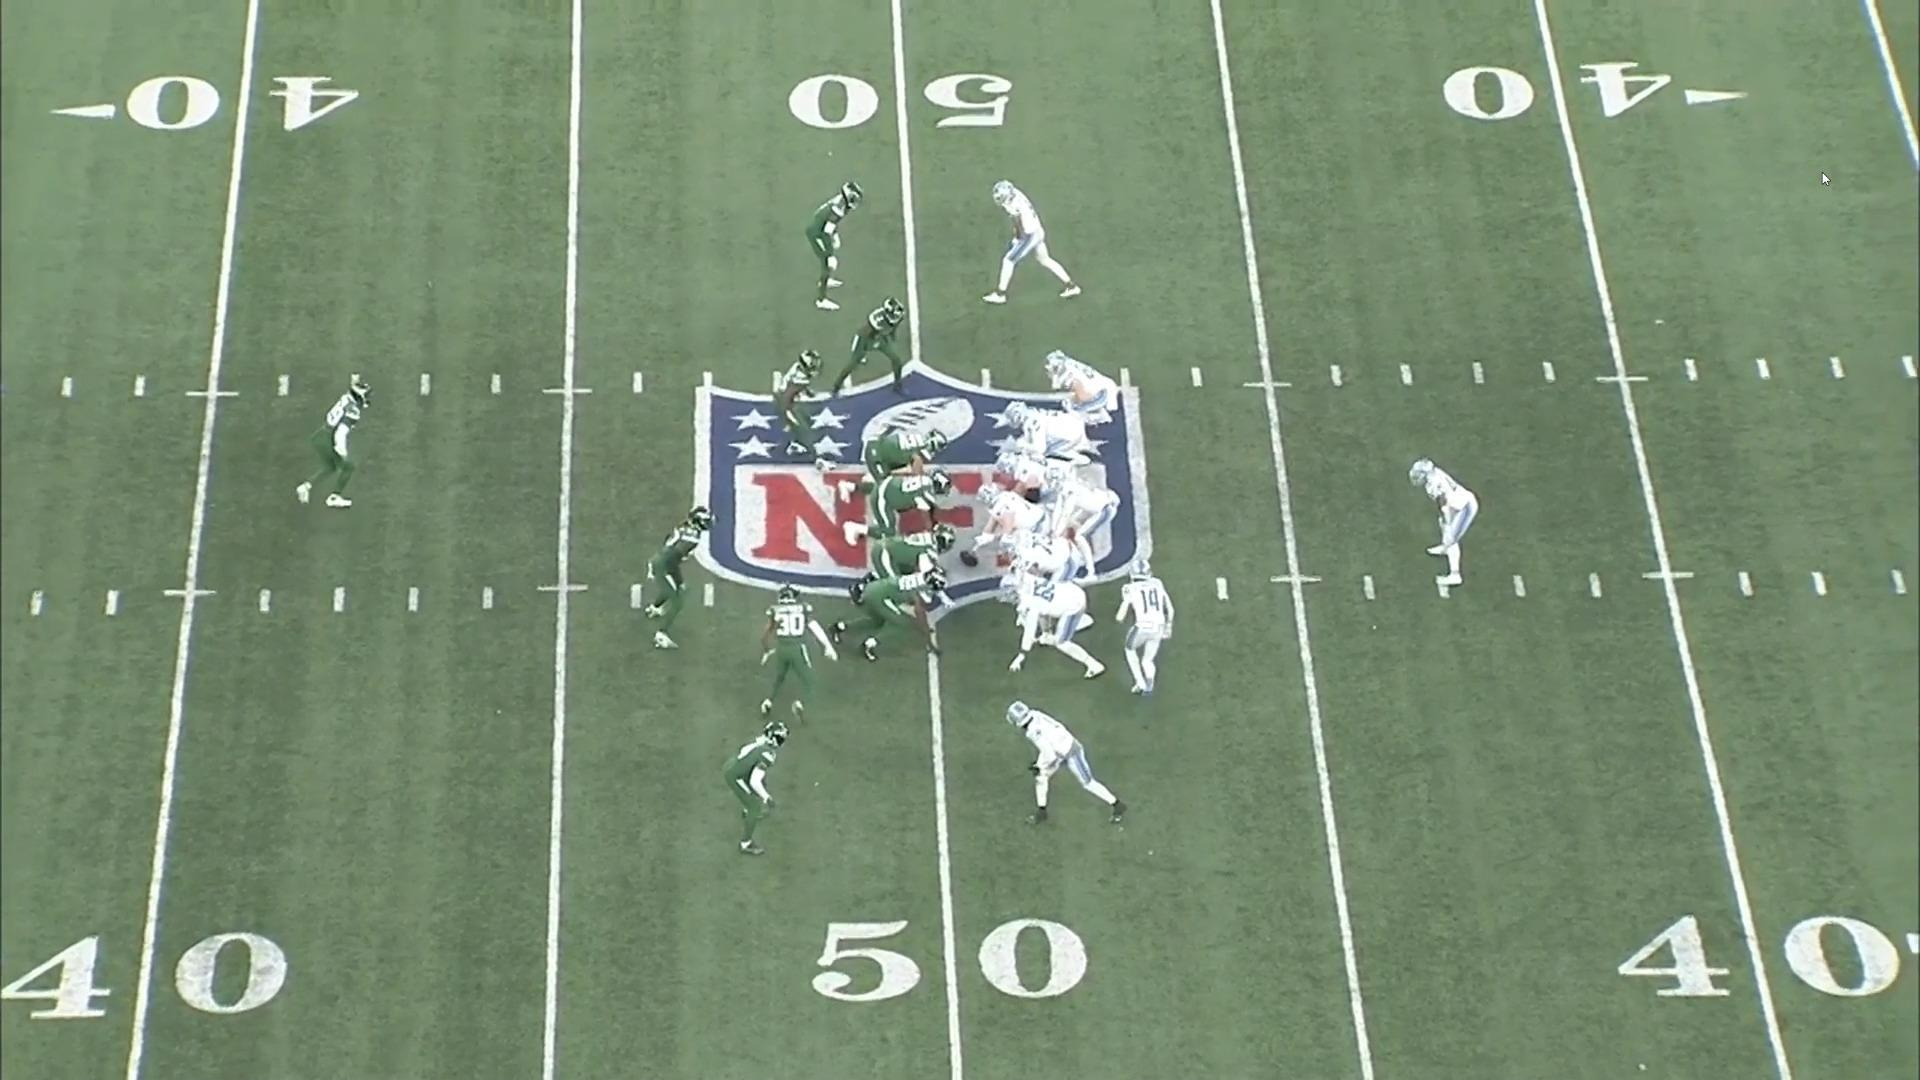40L: (0, 934, 287, 1019), (47, 75, 363, 132)
40R: (1613, 913, 1920, 996), (1437, 61, 1749, 119)
50: (810, 919, 1088, 1006), (782, 71, 1014, 133)
